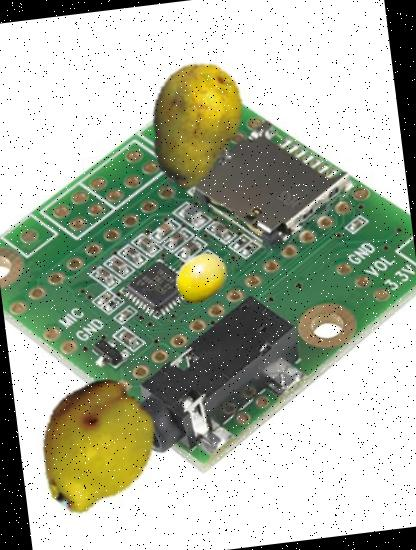Maracuja: (169, 246, 233, 310)
Pear: (121, 53, 270, 202)
Quince: (19, 368, 172, 521)
